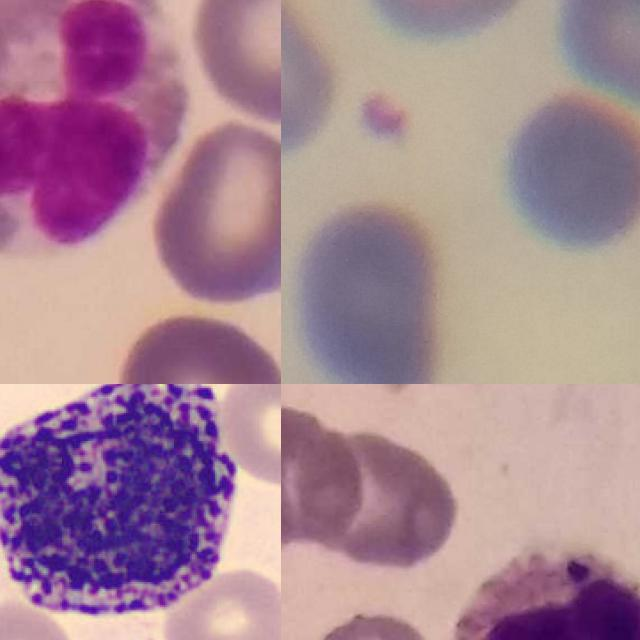Basophil: (0, 384, 248, 631)
Eosinophil: (0, 0, 189, 256)
Neutrophil: (453, 550, 640, 640)
RBC: (157, 564, 281, 640), (218, 384, 281, 492)
